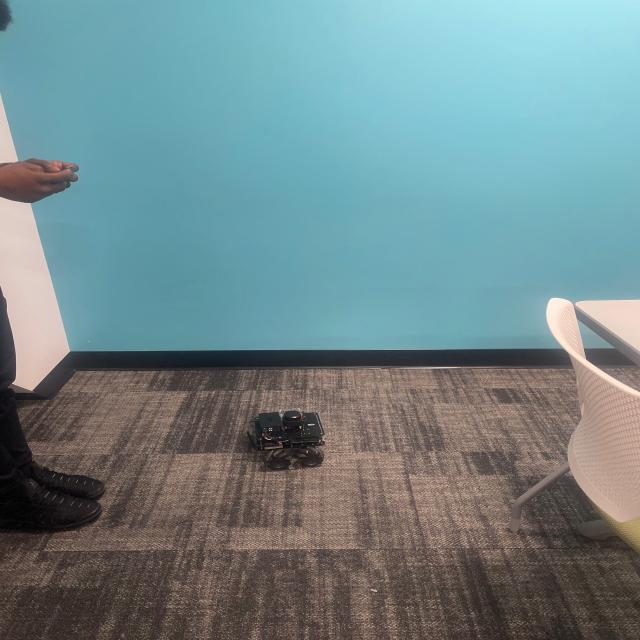ArduinoCar3: (244, 405, 331, 473)
